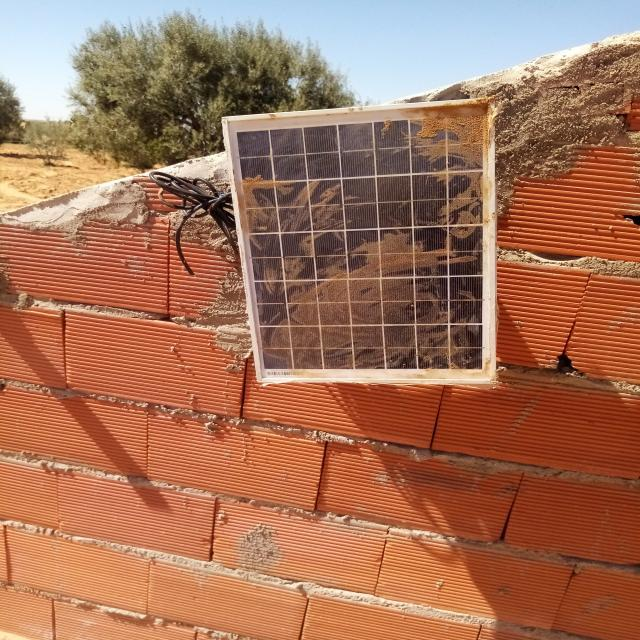faulty: (225, 100, 494, 383)
